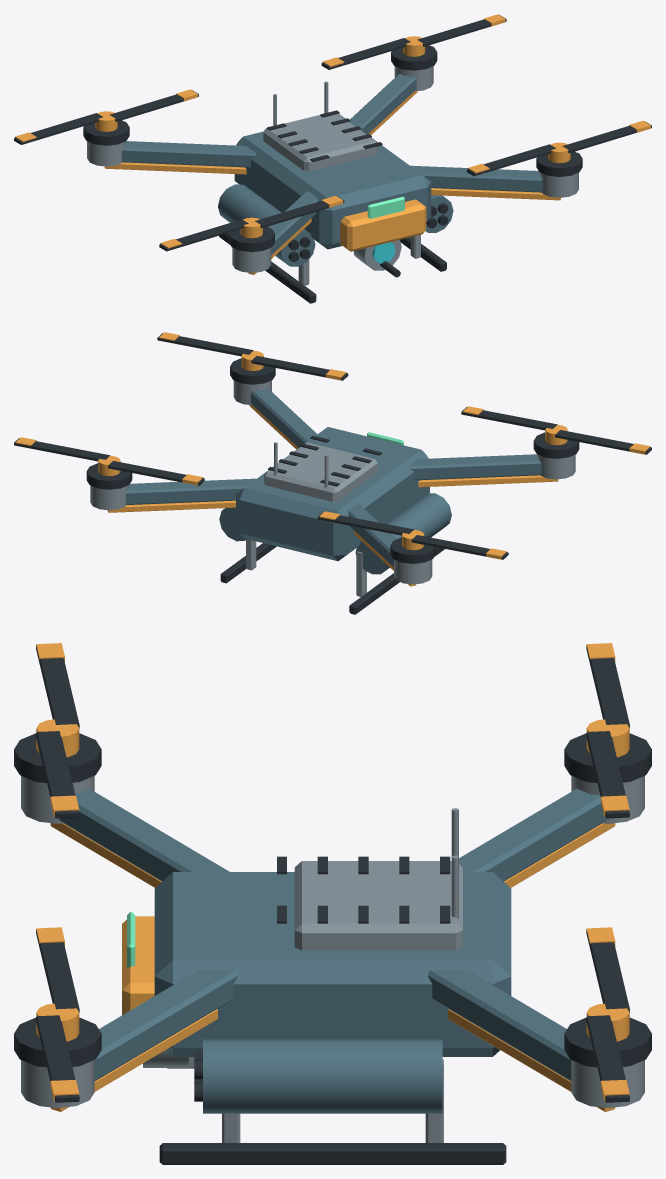
File: boss-quadcopter.glb
3 views of the same model, one above another, from view 1: azimuth 30°, elevation 25°; view 2: azimuth 150°, elevation 25°; view 3: azimuth 270°, elevation 25° (orthographic). The views are drawn at different scales.
Parts seen in each view (by area): view 1: Armored fuselage, Raised battery, Landing skid, Nose armor, Swept carbon blade.006, Swept carbon blade, Swept carbon blade.004, Swept carbon blade.002, Rotor spindle.003, Rotor spindle.002, Rotor spindle.001, Rotor spindle (+2 smaller); view 2: Armored fuselage, Raised battery, Landing skid, Nose armor, Swept carbon blade, Swept carbon blade.006, Swept carbon blade.002, Swept carbon blade.004, Rotor spindle, Rotor spindle.002, Rotor spindle.003, Rotor spindle.001; view 3: Armored fuselage, Raised battery, Landing skid, Nose armor, Swept carbon blade, Swept carbon blade.002, Swept carbon blade.006, Swept carbon blade.004, Rotor spindle.001, Rotor spindle, Rotor spindle.003, Rotor spindle.002.
Boxes of the visible parts, box(x1,y1,x2,y2) form: Armored fuselage: box(121, 74, 542, 266); Raised battery: box(87, 66, 578, 285); Landing skid: box(83, 45, 582, 303); Nose armor: box(104, 91, 560, 274); Swept carbon blade.006: box(321, 14, 506, 69); Swept carbon blade: box(159, 196, 344, 251); Swept carbon blade.004: box(467, 121, 651, 176); Swept carbon blade.002: box(14, 90, 198, 144); Rotor spindle.003: box(322, 14, 505, 66); Rotor spindle.002: box(468, 121, 650, 173); Rotor spindle.001: box(15, 89, 197, 142); Rotor spindle: box(160, 195, 343, 248); Armored fuselage: box(126, 388, 541, 574); Raised battery: box(90, 380, 575, 596); Landing skid: box(86, 358, 579, 614); Nose armor: box(107, 405, 558, 586); Swept carbon blade: box(461, 407, 651, 454); Swept carbon blade.006: box(14, 438, 204, 485); Swept carbon blade.002: box(317, 512, 508, 559); Swept carbon blade.004: box(157, 333, 348, 380); Rotor spindle: box(462, 406, 650, 454); Rotor spindle.002: box(159, 332, 346, 380); Rotor spindle.003: box(15, 437, 203, 485); Rotor spindle.001: box(319, 511, 506, 559); Armored fuselage: box(59, 788, 606, 1113); Raised battery: box(21, 776, 644, 1142); Landing skid: box(14, 733, 651, 1164); Nose armor: box(50, 823, 615, 1111); Swept carbon blade: box(36, 645, 79, 818); Swept carbon blade.002: box(586, 645, 629, 818); Swept carbon blade.006: box(586, 929, 629, 1102); Swept carbon blade.004: box(36, 929, 79, 1102); Rotor spindle.001: box(586, 643, 629, 816); Rotor spindle: box(36, 643, 79, 816); Rotor spindle.003: box(586, 927, 629, 1100); Rotor spindle.002: box(36, 927, 79, 1100).
Size of the model in its own units: 10.55 by 2.91 by 6.26.
